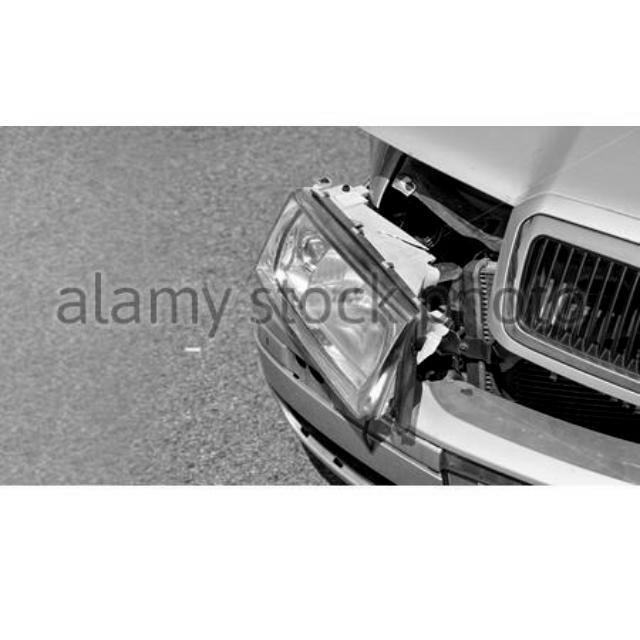Headlight-damage: (241, 170, 472, 431)
